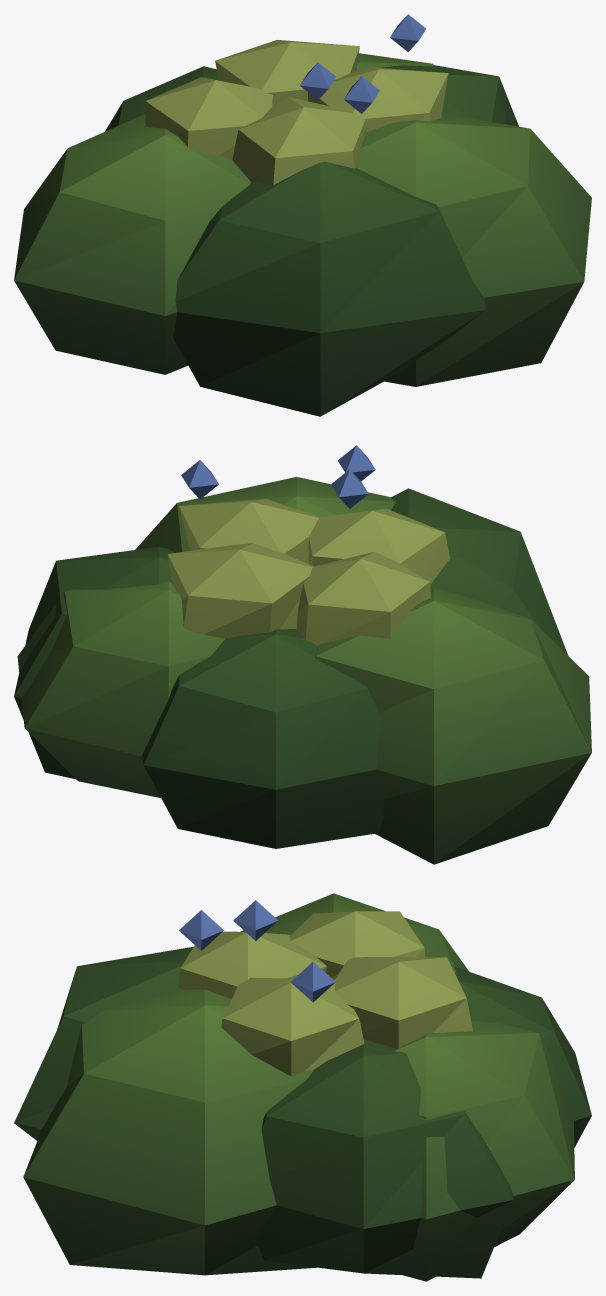
Rendered from fern_bush.glb.
3 views of the same model, one above another, from view 1: azimuth 30°, elevation 25°; view 2: azimuth 150°, elevation 25°; view 3: azimuth 270°, elevation 25° (orthographic). The views are drawn at different scales.
Parts seen in each view (by area): view 1: fern_bush; view 2: fern_bush; view 3: fern_bush.
Part boxes in pixels (x1,y1,x2,y2): fern_bush: [14, 14, 591, 416]; fern_bush: [14, 445, 591, 864]; fern_bush: [14, 893, 591, 1281].
Size of the model in its own units: 1.44 by 0.7793 by 1.27.
